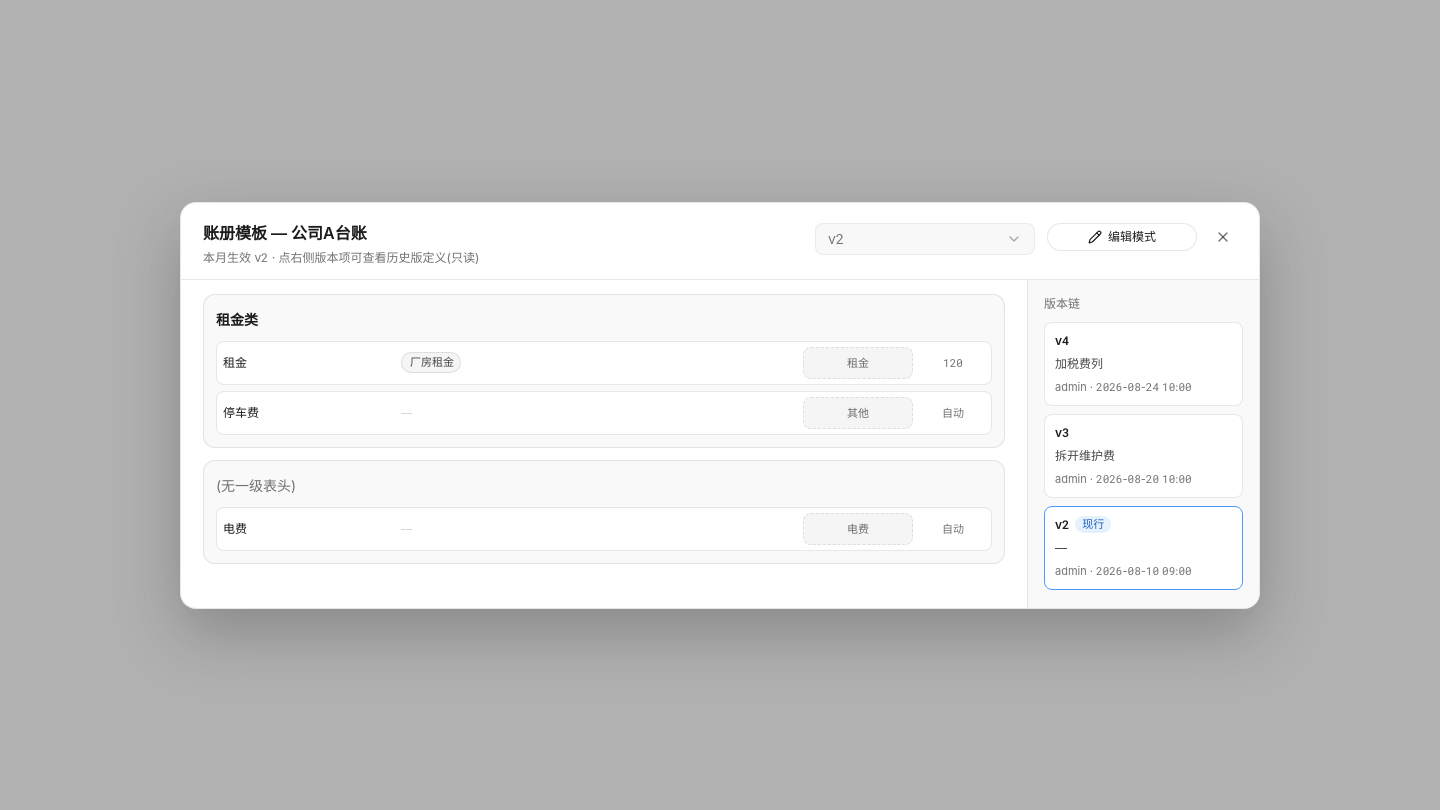
Test: TemplateEditorPanel · 版本选择器 › canSwitch=false:选择器置灰、编辑态不出「切到此版」,但编辑门照开
Expected: the dropdown with class "ds-sel-trigger" is disabled, x1=815 y1=222 x2=1035 y2=254
Click the button with class "te-editbtn": {"x": 1122, "y": 236} x1=1047 y1=222 x2=1197 y2=250
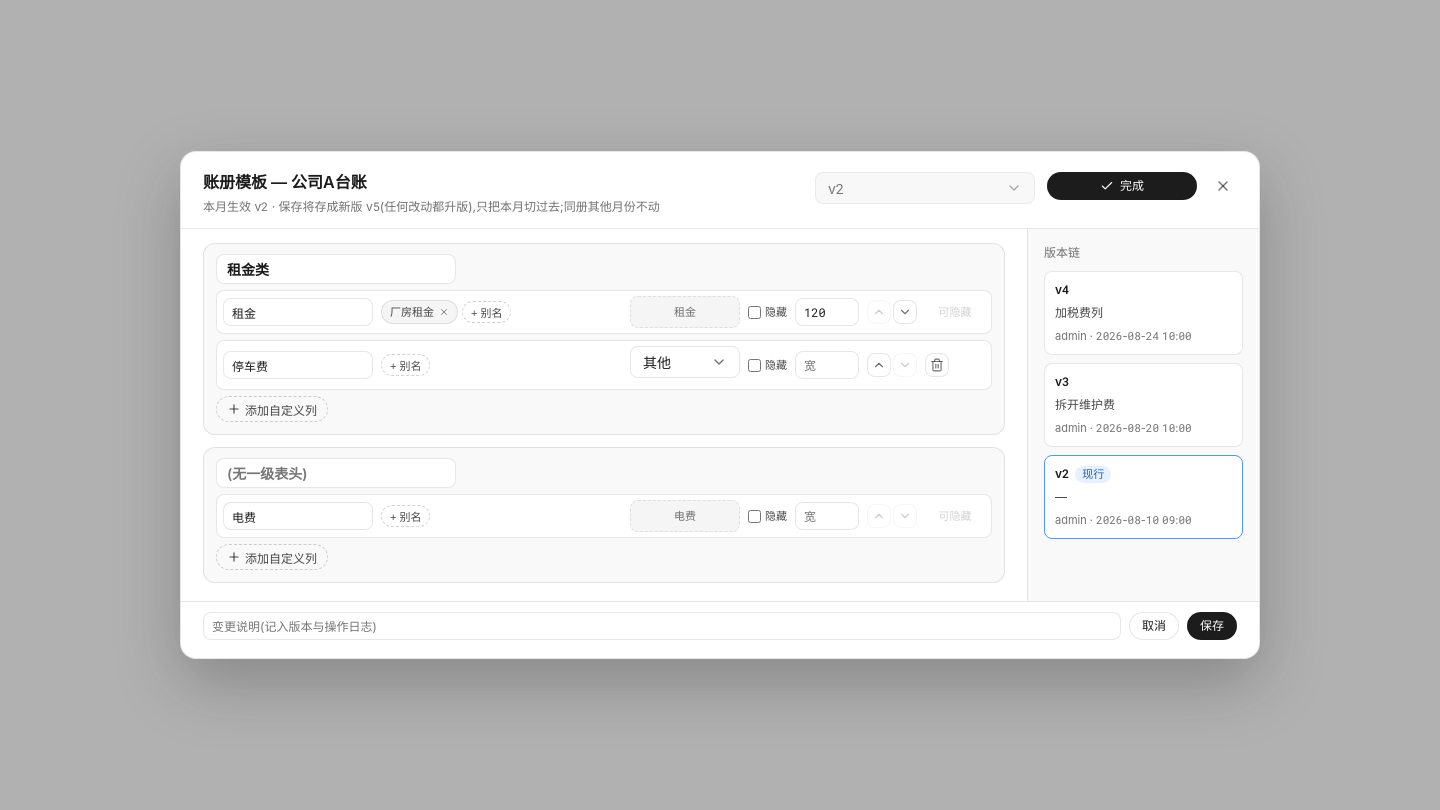
Now the field with class "te-name" next to "厂房租金" is shown, box x1=223 y1=298 x2=373 y2=326
